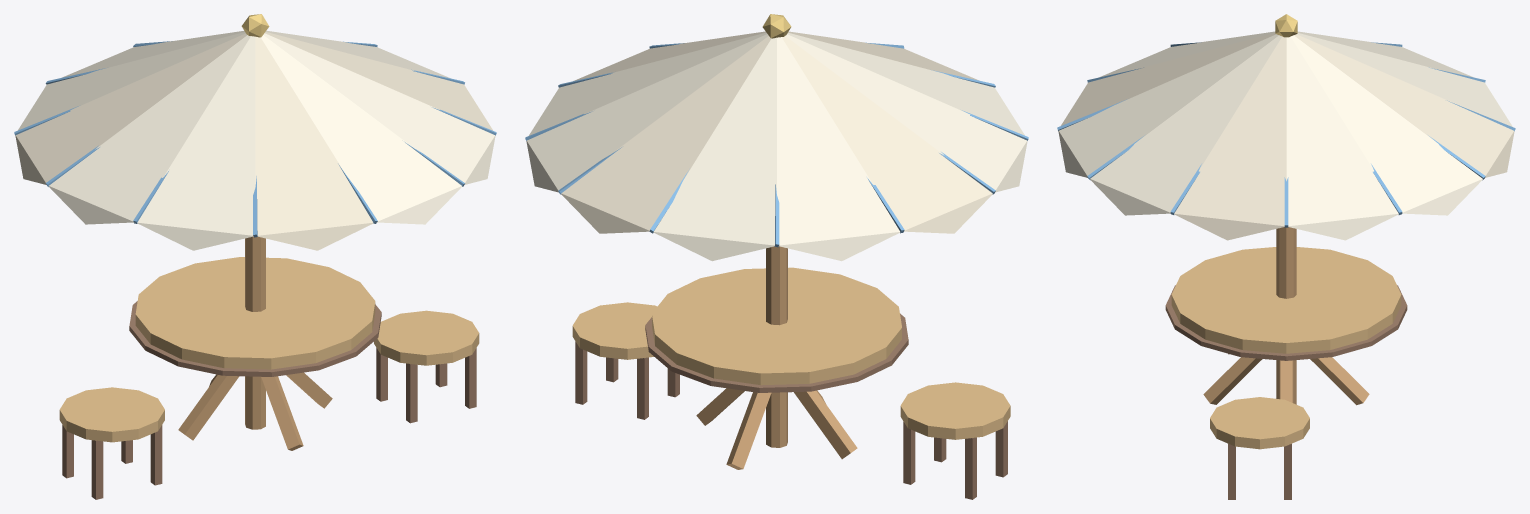
Rendered from umbrella-table.glb.
The picture shows the model from 3 angles, left to right: view 1: azimuth 30°, elevation 25°; view 2: azimuth 150°, elevation 25°; view 3: azimuth 270°, elevation 25°; orthographic projection. The views are drawn at different scales.
Visible parts, largest first — view 1: umbrella_table_fabric_cream, umbrella_table_wood_light, umbrella_table_fabric_shadow, umbrella_table_wood_dark, umbrella_table_wood, umbrella_table_blue; view 2: umbrella_table_fabric_cream, umbrella_table_wood_light, umbrella_table_fabric_shadow, umbrella_table_wood_dark, umbrella_table_wood, umbrella_table_blue; view 3: umbrella_table_fabric_cream, umbrella_table_fabric_shadow, umbrella_table_wood_light, umbrella_table_wood, umbrella_table_wood_dark, umbrella_table_blue.
Boxes of the visible parts, x1=… form: umbrella_table_fabric_cream: x1=18, y1=30, x2=495, y2=250; umbrella_table_wood_light: x1=59, y1=257, x2=479, y2=442; umbrella_table_fabric_shadow: x1=15, y1=31, x2=493, y2=250; umbrella_table_wood_dark: x1=62, y1=301, x2=476, y2=499; umbrella_table_wood: x1=178, y1=236, x2=332, y2=450; umbrella_table_blue: x1=14, y1=41, x2=496, y2=237; umbrella_table_fabric_cream: x1=526, y1=32, x2=1027, y2=261; umbrella_table_wood_light: x1=572, y1=267, x2=1010, y2=439; umbrella_table_fabric_shadow: x1=561, y1=31, x2=992, y2=233; umbrella_table_wood_dark: x1=575, y1=313, x2=1007, y2=499; umbrella_table_wood: x1=696, y1=246, x2=857, y2=469; umbrella_table_blue: x1=525, y1=42, x2=1028, y2=247; umbrella_table_fabric_cream: x1=1058, y1=31, x2=1512, y2=240; umbrella_table_fabric_shadow: x1=1061, y1=33, x2=1514, y2=240; umbrella_table_wood_light: x1=1171, y1=247, x2=1401, y2=449; umbrella_table_wood: x1=1203, y1=227, x2=1369, y2=405; umbrella_table_wood_dark: x1=1165, y1=285, x2=1407, y2=499; umbrella_table_blue: x1=1057, y1=42, x2=1515, y2=227.
Bounding box in the file's own units: 3.11 × 2.96 × 3.11.
